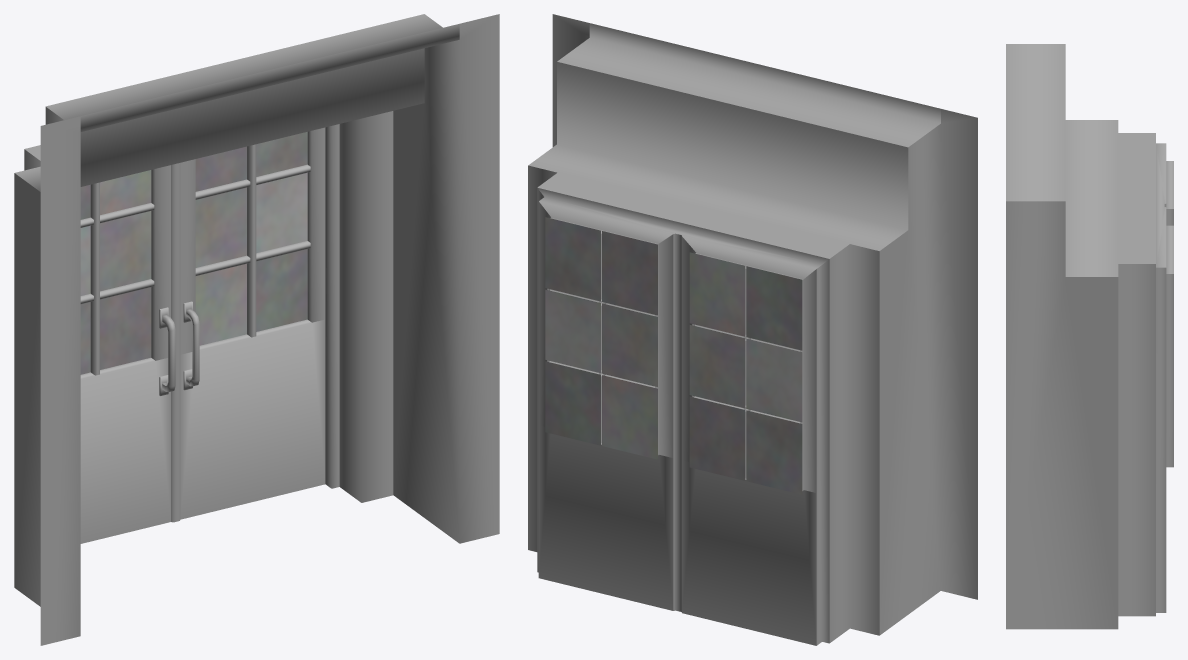
The model's file is Store_Wall_Door.fbx.
The picture shows the model from 3 angles, left to right: view 1: azimuth 30°, elevation 25°; view 2: azimuth 150°, elevation 25°; view 3: azimuth 270°, elevation 25°; orthographic projection. The views are drawn at different scales.
Visible parts, largest first — view 1: Store_Wall_Door; view 2: Store_Wall_Door; view 3: Store_Wall_Door.
Part boxes in pixels (x1,y1,x2,y2): Store_Wall_Door: (14, 14, 499, 645); Store_Wall_Door: (528, 14, 977, 645); Store_Wall_Door: (1006, 44, 1173, 629).
Bounding box in the file's own units: 3 × 3.25 × 1.12.
